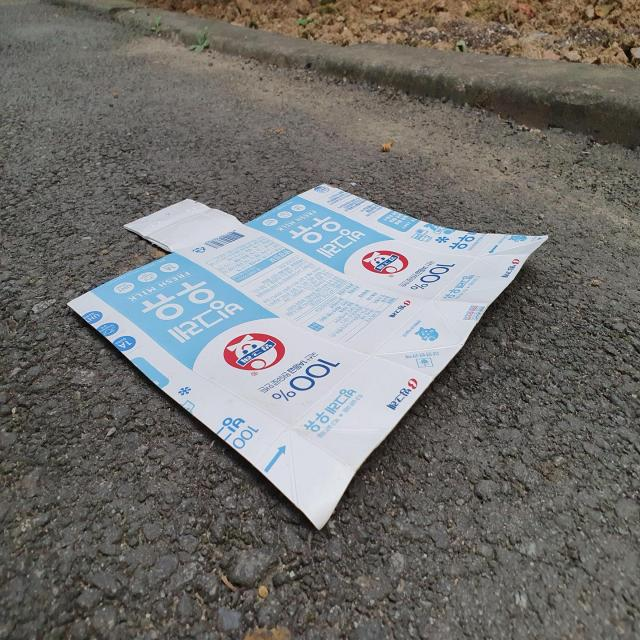paperpack: (69, 183, 548, 528)
